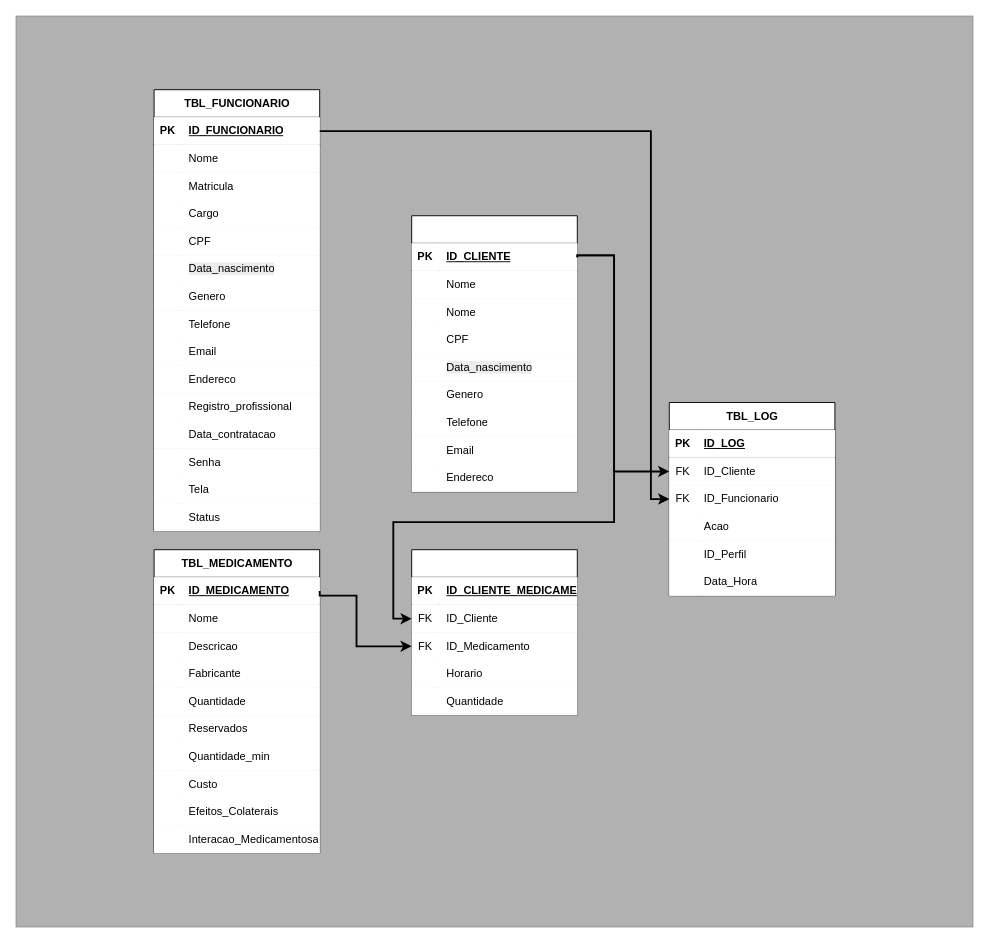
The diagram is 989 pixels wide and 943 high, and some of its shapes have lost their labels. The box of each missing label's shape, as (x1, y1, x2, y2) in pixels:
TBL_CLIENTE: (411, 215, 577, 492)
TBL_CLIENTE_MEDICAMENTO: (411, 549, 577, 715)
